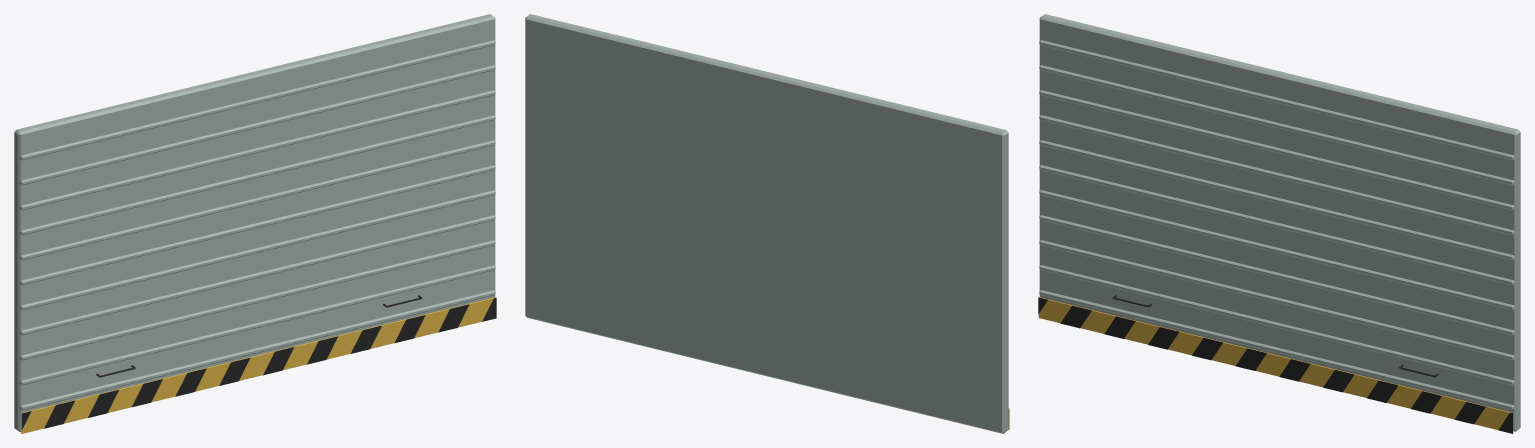
File: shutter_leaf.glb
3 renders of one model, left to right at view 1: azimuth 30°, elevation 25°; view 2: azimuth 150°, elevation 25°; view 3: azimuth 330°, elevation 25°, orthographic.
Parts seen in each view (by area): view 1: Occlude_Leaf_Mesh; view 2: Occlude_Leaf_Mesh; view 3: Occlude_Leaf_Mesh.
Part boxes in pixels (box(x1,y1,x2,y2)): Occlude_Leaf_Mesh: box(14, 14, 496, 433); Occlude_Leaf_Mesh: box(525, 14, 1009, 433); Occlude_Leaf_Mesh: box(1038, 14, 1520, 433).
Size of the model in its own units: 6 by 3.6 by 0.2.
